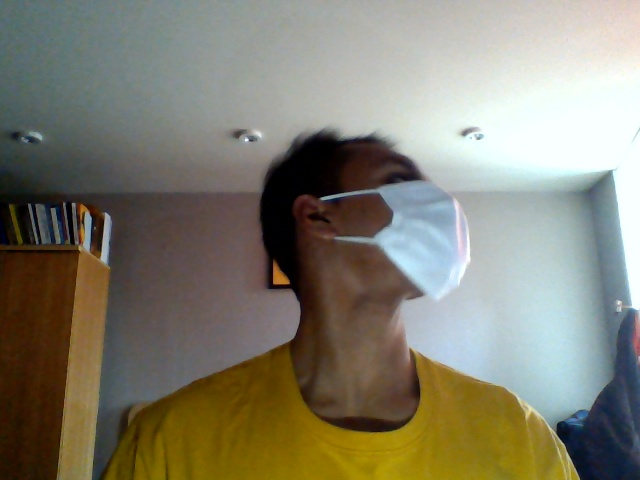mask: (380, 179, 470, 304)
